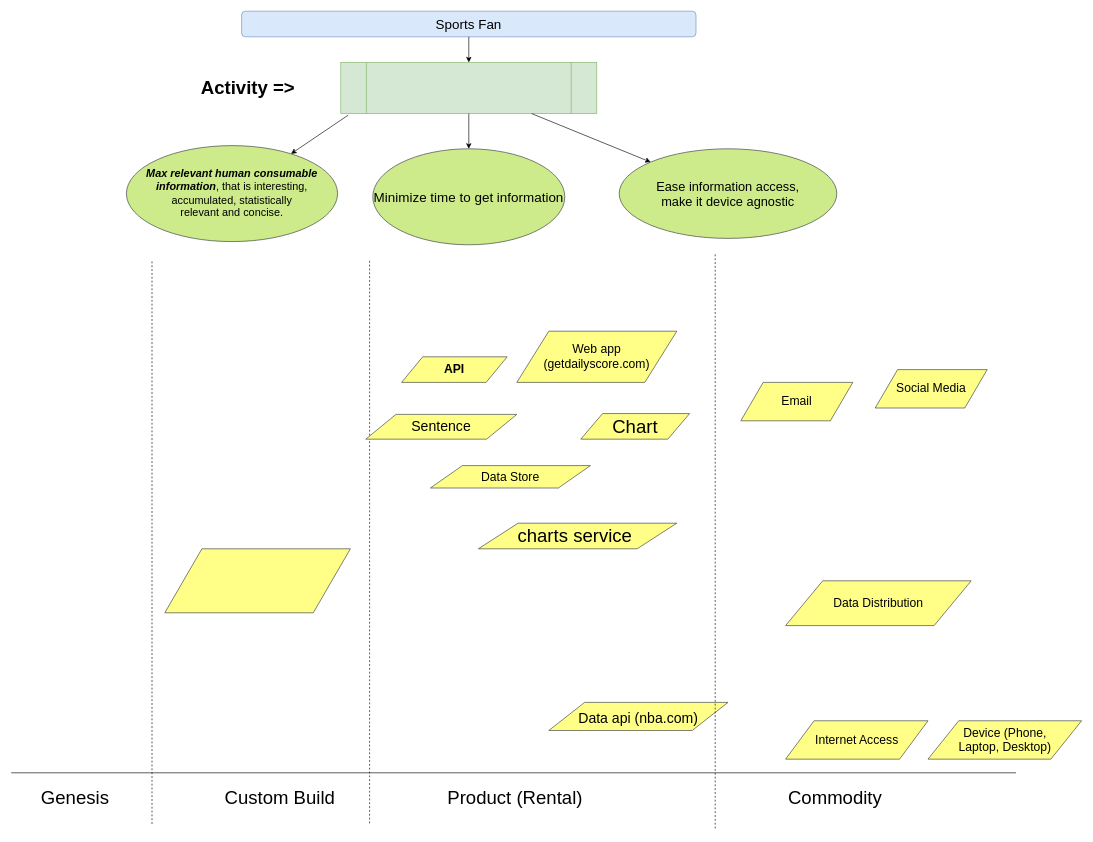
This 1093x842 diagram has some shape labels left out. The box of each missing label's shape, as (x1, y1, x2, y2) in pixels:
ML service that extracts human consumable data from numbers: (164, 548, 350, 613)
Track past games scores and stats: (340, 62, 597, 114)
